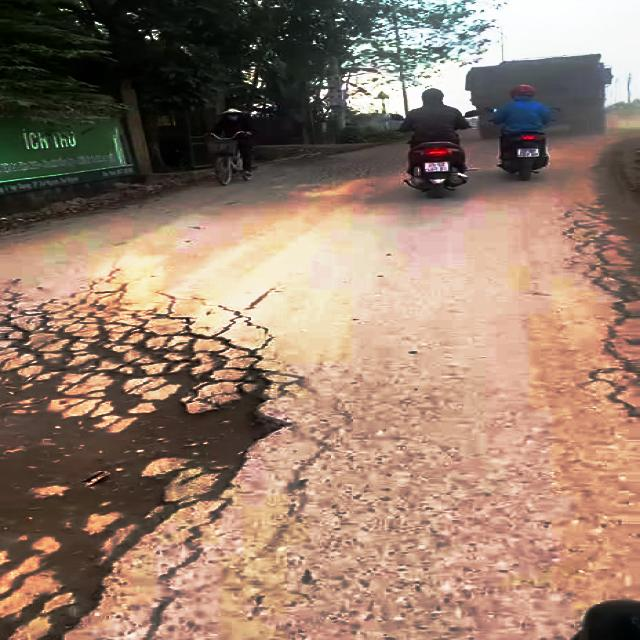pothole: (0, 305, 292, 640)
